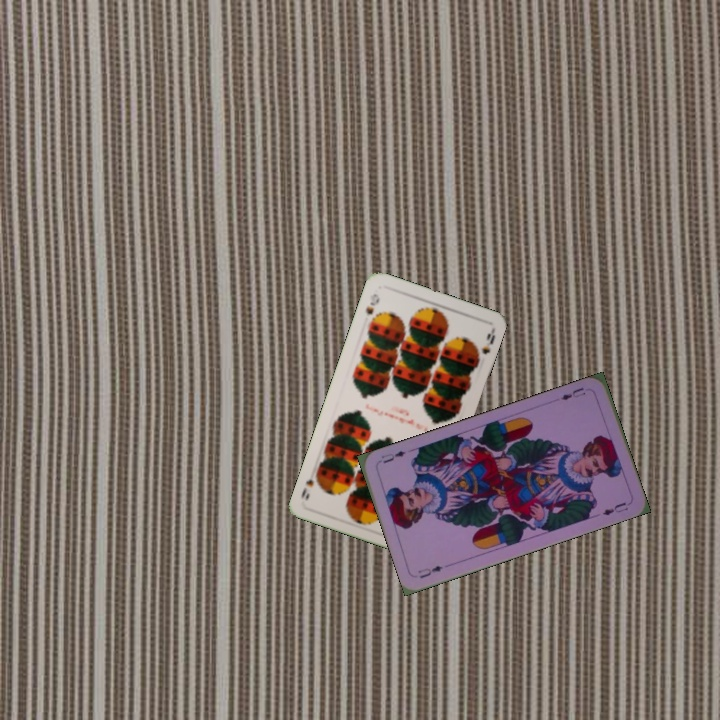EU: (414, 562, 445, 581), (557, 383, 586, 403)
S9: (362, 289, 382, 318)
